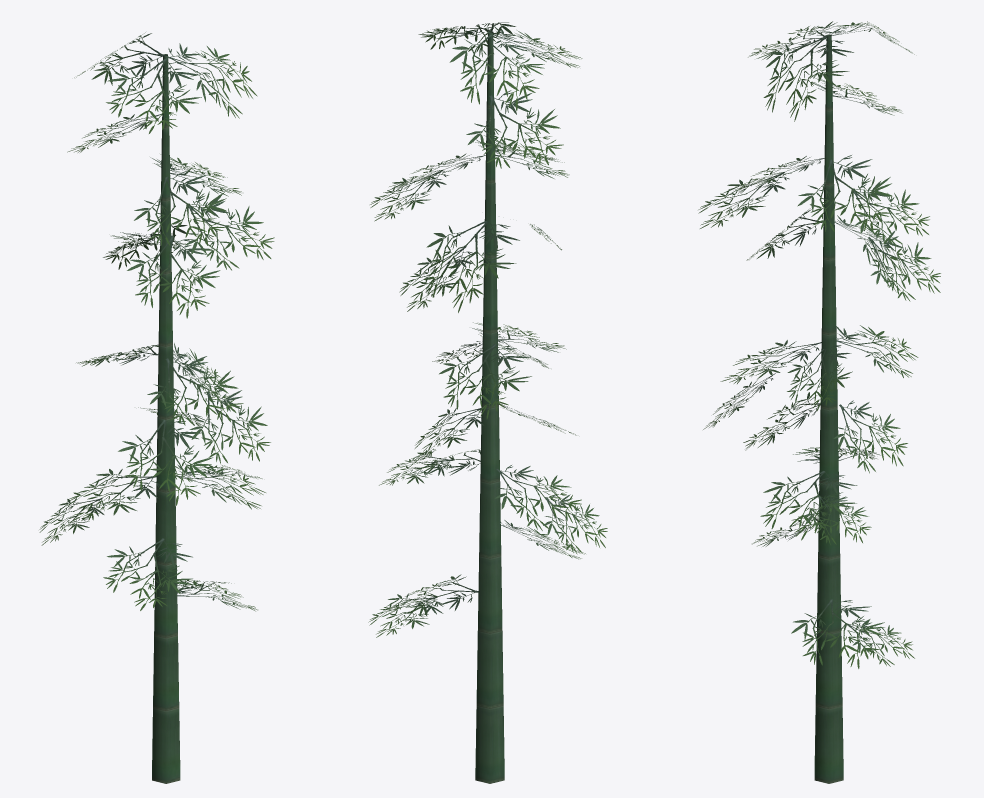
The model's file is bamboo_02.fbx.
3 renders of one model, left to right at view 1: azimuth 30°, elevation 25°; view 2: azimuth 150°, elevation 25°; view 3: azimuth 270°, elevation 25°, orthographic. The views are drawn at different scales.
Visible parts, largest first — view 1: pCylinder24, polySurface1, polySurface689, polySurface690, polySurface688, polySurface684, polySurface686, polySurface21, polySurface691, polySurface687, polySurface694, polySurface2 (+8 smaller); view 2: pCylinder24, polySurface4, polySurface23, polySurface685, polySurface751, polySurface694, polySurface695, polySurface24, polySurface15, polySurface22, polySurface696, polySurface687 (+7 smaller); view 3: pCylinder24, polySurface683, polySurface687, polySurface696, polySurface2, polySurface15, polySurface24, polySurface22, polySurface692, polySurface21, polySurface751, polySurface684 (+9 smaller).
Part boxes in pixels (box(x1,y1,x2,y2)): pCylinder24: box(152, 54, 180, 783); polySurface1: box(118, 419, 213, 505); polySurface689: box(127, 235, 220, 318); polySurface690: box(134, 171, 226, 245); polySurface688: box(106, 58, 201, 133); polySurface684: box(147, 353, 243, 425); polySurface686: box(103, 538, 192, 610); polySurface21: box(185, 196, 274, 270); polySurface691: box(189, 387, 270, 463); polySurface687: box(165, 43, 257, 118); polySurface694: box(66, 469, 160, 522); polySurface2: box(175, 464, 265, 509); pCylinder24: box(475, 31, 504, 783); polySurface4: box(424, 221, 519, 312); polySurface23: box(466, 90, 563, 168); polySurface685: box(449, 33, 544, 111); polySurface751: box(439, 344, 531, 419); polySurface694: box(494, 465, 581, 530); polySurface695: box(543, 493, 607, 554); polySurface24: box(399, 246, 472, 311); polySurface15: box(414, 407, 486, 463); polySurface22: box(370, 170, 448, 221); polySurface696: box(382, 574, 478, 616); polySurface687: box(418, 22, 515, 52); pCylinder24: box(814, 34, 843, 783); polySurface683: box(797, 155, 892, 231); polySurface687: box(763, 35, 853, 121); polySurface696: box(791, 599, 884, 668); polySurface2: box(760, 471, 857, 540); polySurface15: box(833, 400, 907, 473); polySurface24: box(868, 230, 940, 301); polySurface22: box(853, 181, 929, 246); polySurface692: box(787, 345, 852, 411); polySurface21: box(698, 172, 789, 228); polySurface751: box(836, 325, 918, 377); polySurface684: box(720, 340, 821, 383).
Size of the model in its own units: 3.32 by 9.48 by 3.48.
